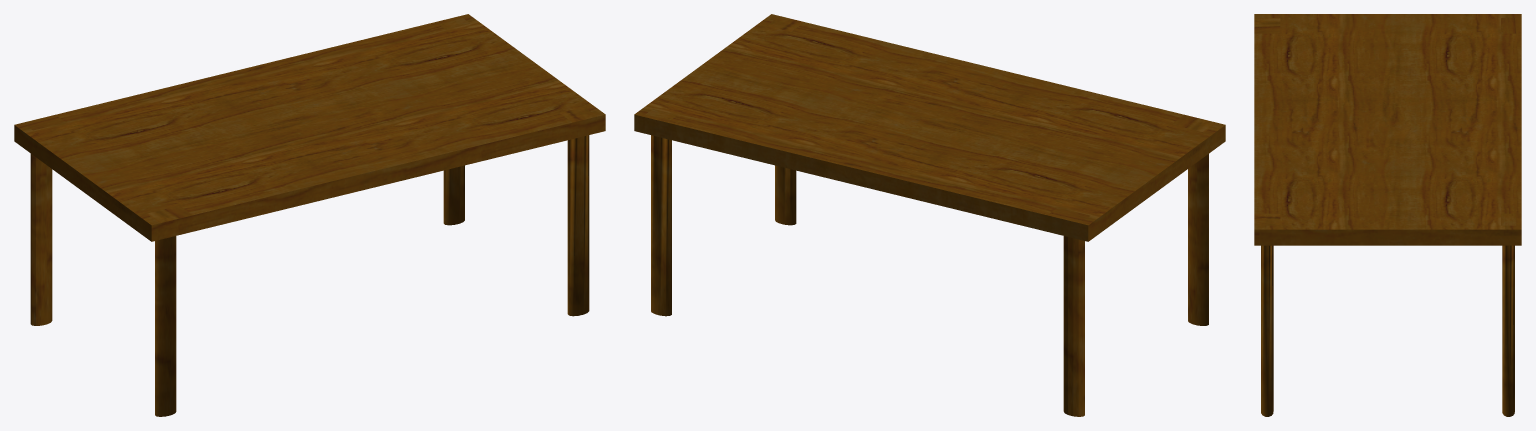
File: Mesa.obj
3 renders of one model, left to right at view 1: azimuth 30°, elevation 25°; view 2: azimuth 150°, elevation 25°; view 3: azimuth 270°, elevation 25°, orthographic. The views are drawn at different scales.
Visible parts, largest first — view 1: Mesa:Plano_Plano_001; view 2: Mesa:Plano_Plano_001; view 3: Mesa:Plano_Plano_001.
Part boxes in pixels (x1=…): Mesa:Plano_Plano_001: x1=14, y1=14, x2=605, y2=416; Mesa:Plano_Plano_001: x1=634, y1=14, x2=1225, y2=416; Mesa:Plano_Plano_001: x1=1254, y1=14, x2=1521, y2=416.
Size of the model in its own units: 7.72 by 3.21 by 4.04.
Materials: 1 (1 with a texture image).
